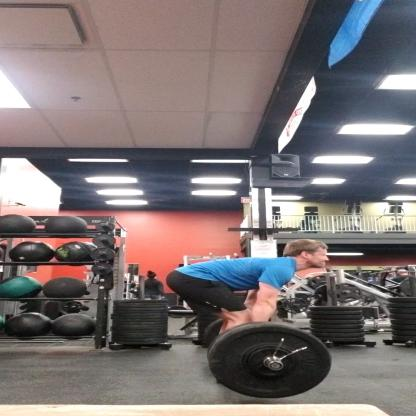Barbell: (198, 320, 344, 403)
